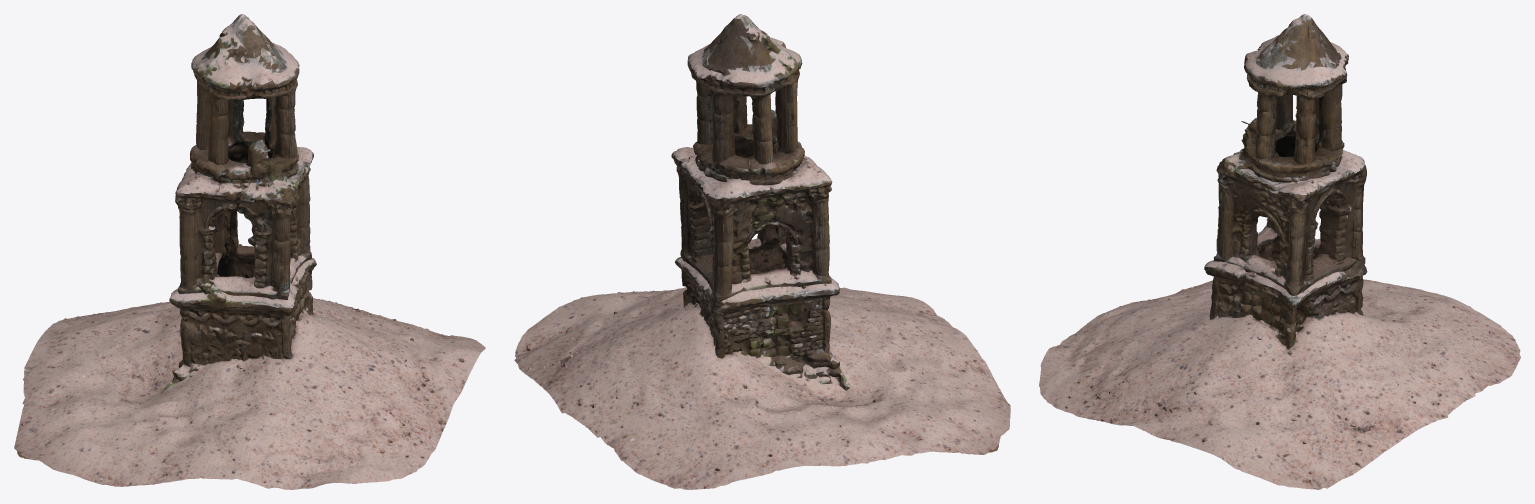
Rendered from temple.gltf.
3 renders of one model, left to right at view 1: azimuth 30°, elevation 25°; view 2: azimuth 150°, elevation 25°; view 3: azimuth 270°, elevation 25°, orthographic. The views are drawn at different scales.
Visible parts, largest first — view 1: temple; view 2: temple; view 3: temple.
Part boxes in pixels (x1,y1,x2,y2): temple: (14, 14, 485, 489); temple: (514, 14, 1010, 489); temple: (1039, 14, 1520, 489).
Size of the model in its own units: 30.31 by 24.05 by 28.09.
Materials: 1 (1 with a texture image).
